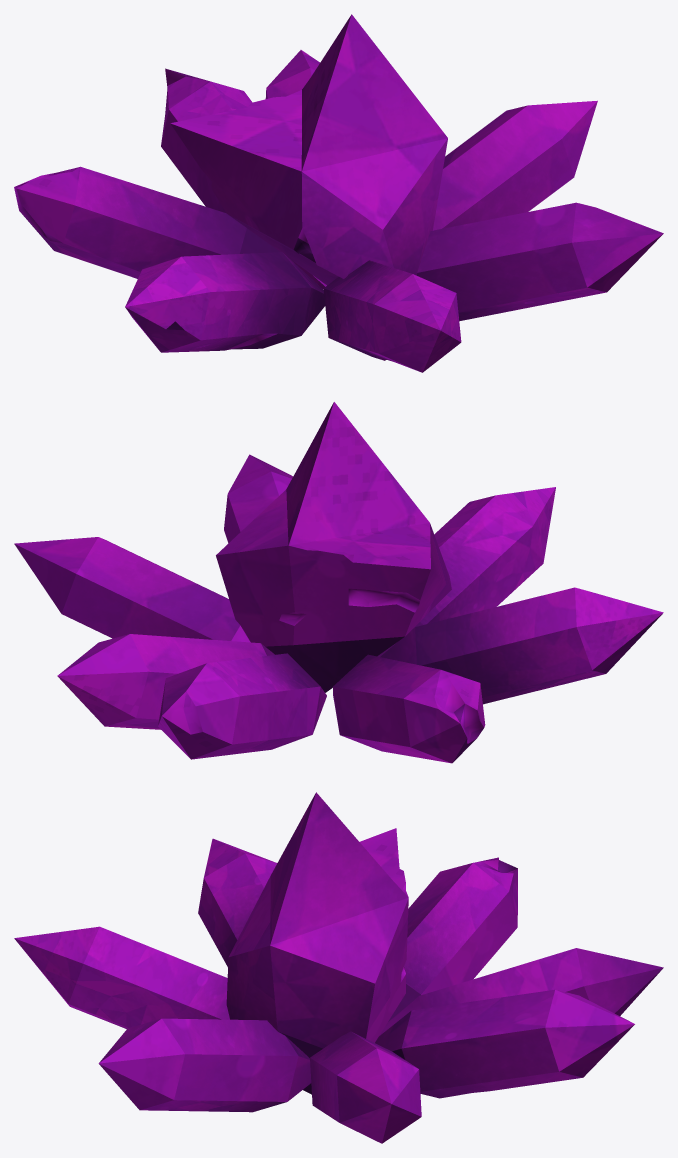
Rendered from P_CRYSTAL 3.fbx.
3 renders of one model, top to bottom at view 1: azimuth 30°, elevation 25°; view 2: azimuth 150°, elevation 25°; view 3: azimuth 270°, elevation 25°, orthographic. The views are drawn at different scales.
Visible parts, largest first — view 1: Crystal_03; view 2: Crystal_03; view 3: Crystal_03.
Part boxes in pixels (x1=…): Crystal_03: x1=14, y1=14, x2=663, y2=372; Crystal_03: x1=14, y1=402, x2=663, y2=763; Crystal_03: x1=14, y1=792, x2=663, y2=1143.
Size of the model in its own units: 228 by 120 by 236.
